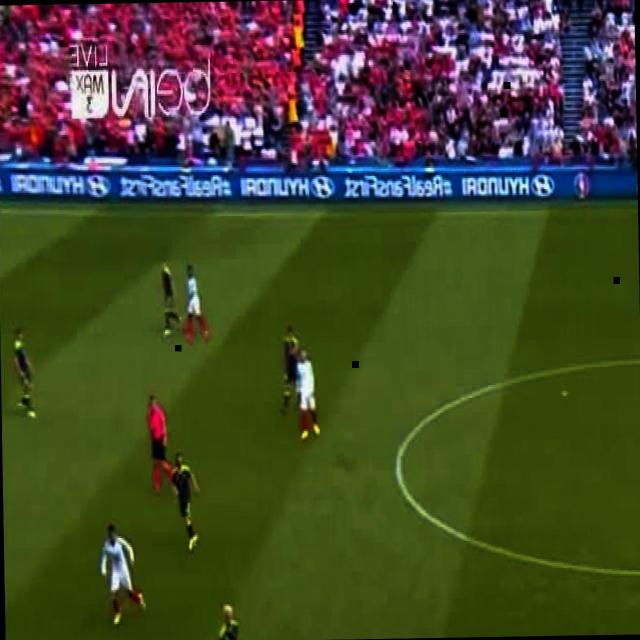player-white: (100, 521, 148, 627), (171, 452, 201, 552), (148, 392, 175, 496), (11, 328, 37, 418), (296, 350, 320, 442), (278, 326, 302, 414), (183, 264, 210, 338), (160, 264, 182, 338), (210, 604, 240, 640)
